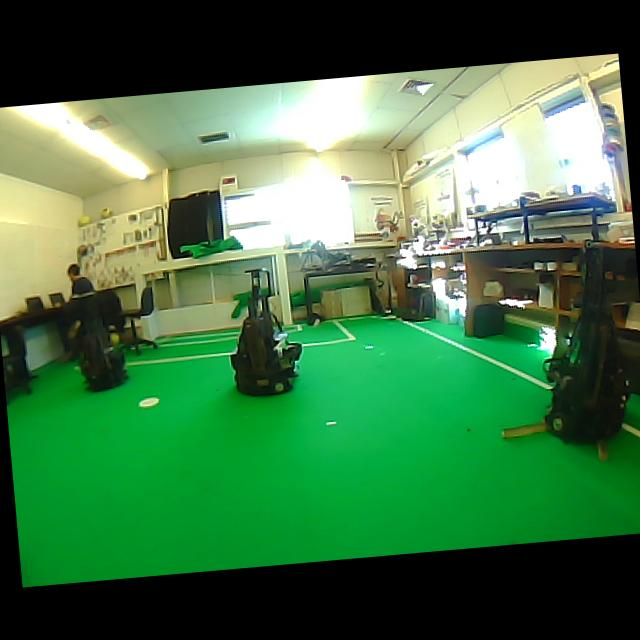ball: (77, 214, 91, 226), (100, 207, 113, 219), (110, 332, 119, 343)
goal: (274, 252, 290, 324)
robot: (544, 246, 629, 442), (230, 268, 301, 394), (81, 333, 126, 390)
